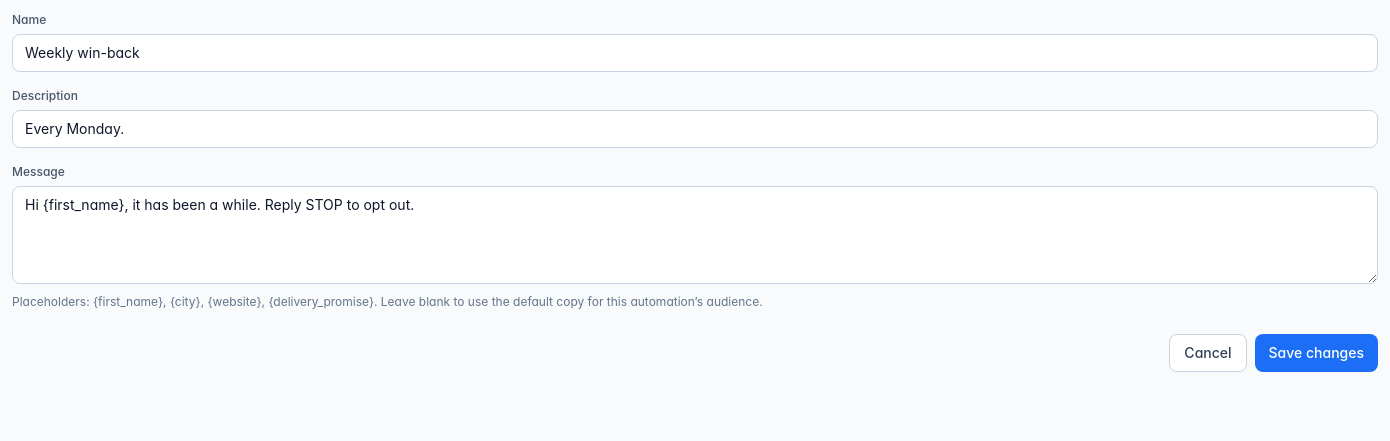
Test: AutomationEditor › warns that changing the copy withdraws approval
Expected: the text "withdraws approval" is not shown
Type " Extra." into the text box labelled "Message".
click(695, 235); type(" Extra.")  # box [12, 186, 1378, 284]
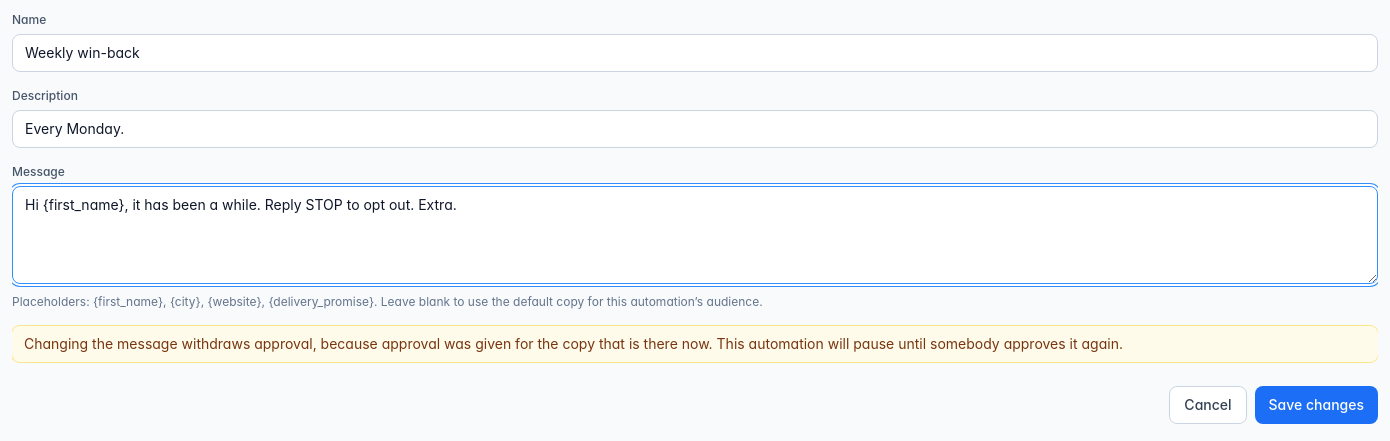
Expected: the text "withdraws approval" is shown, [24, 335, 1123, 352]
